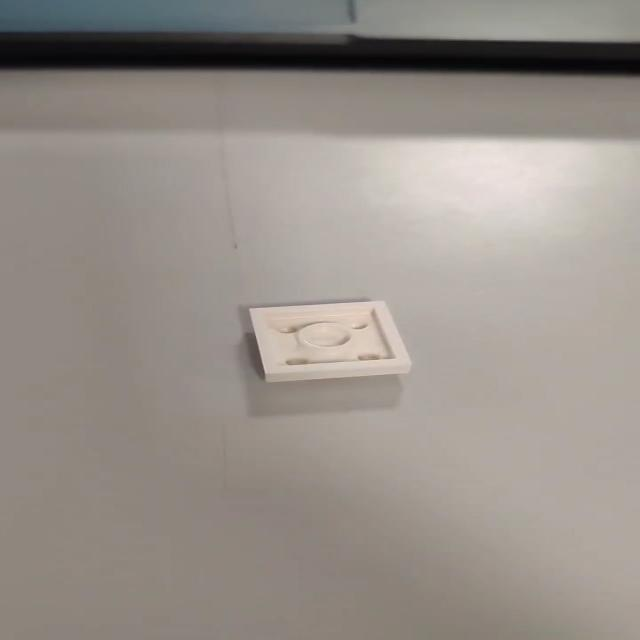C2x2x0: (249, 302, 415, 384)
